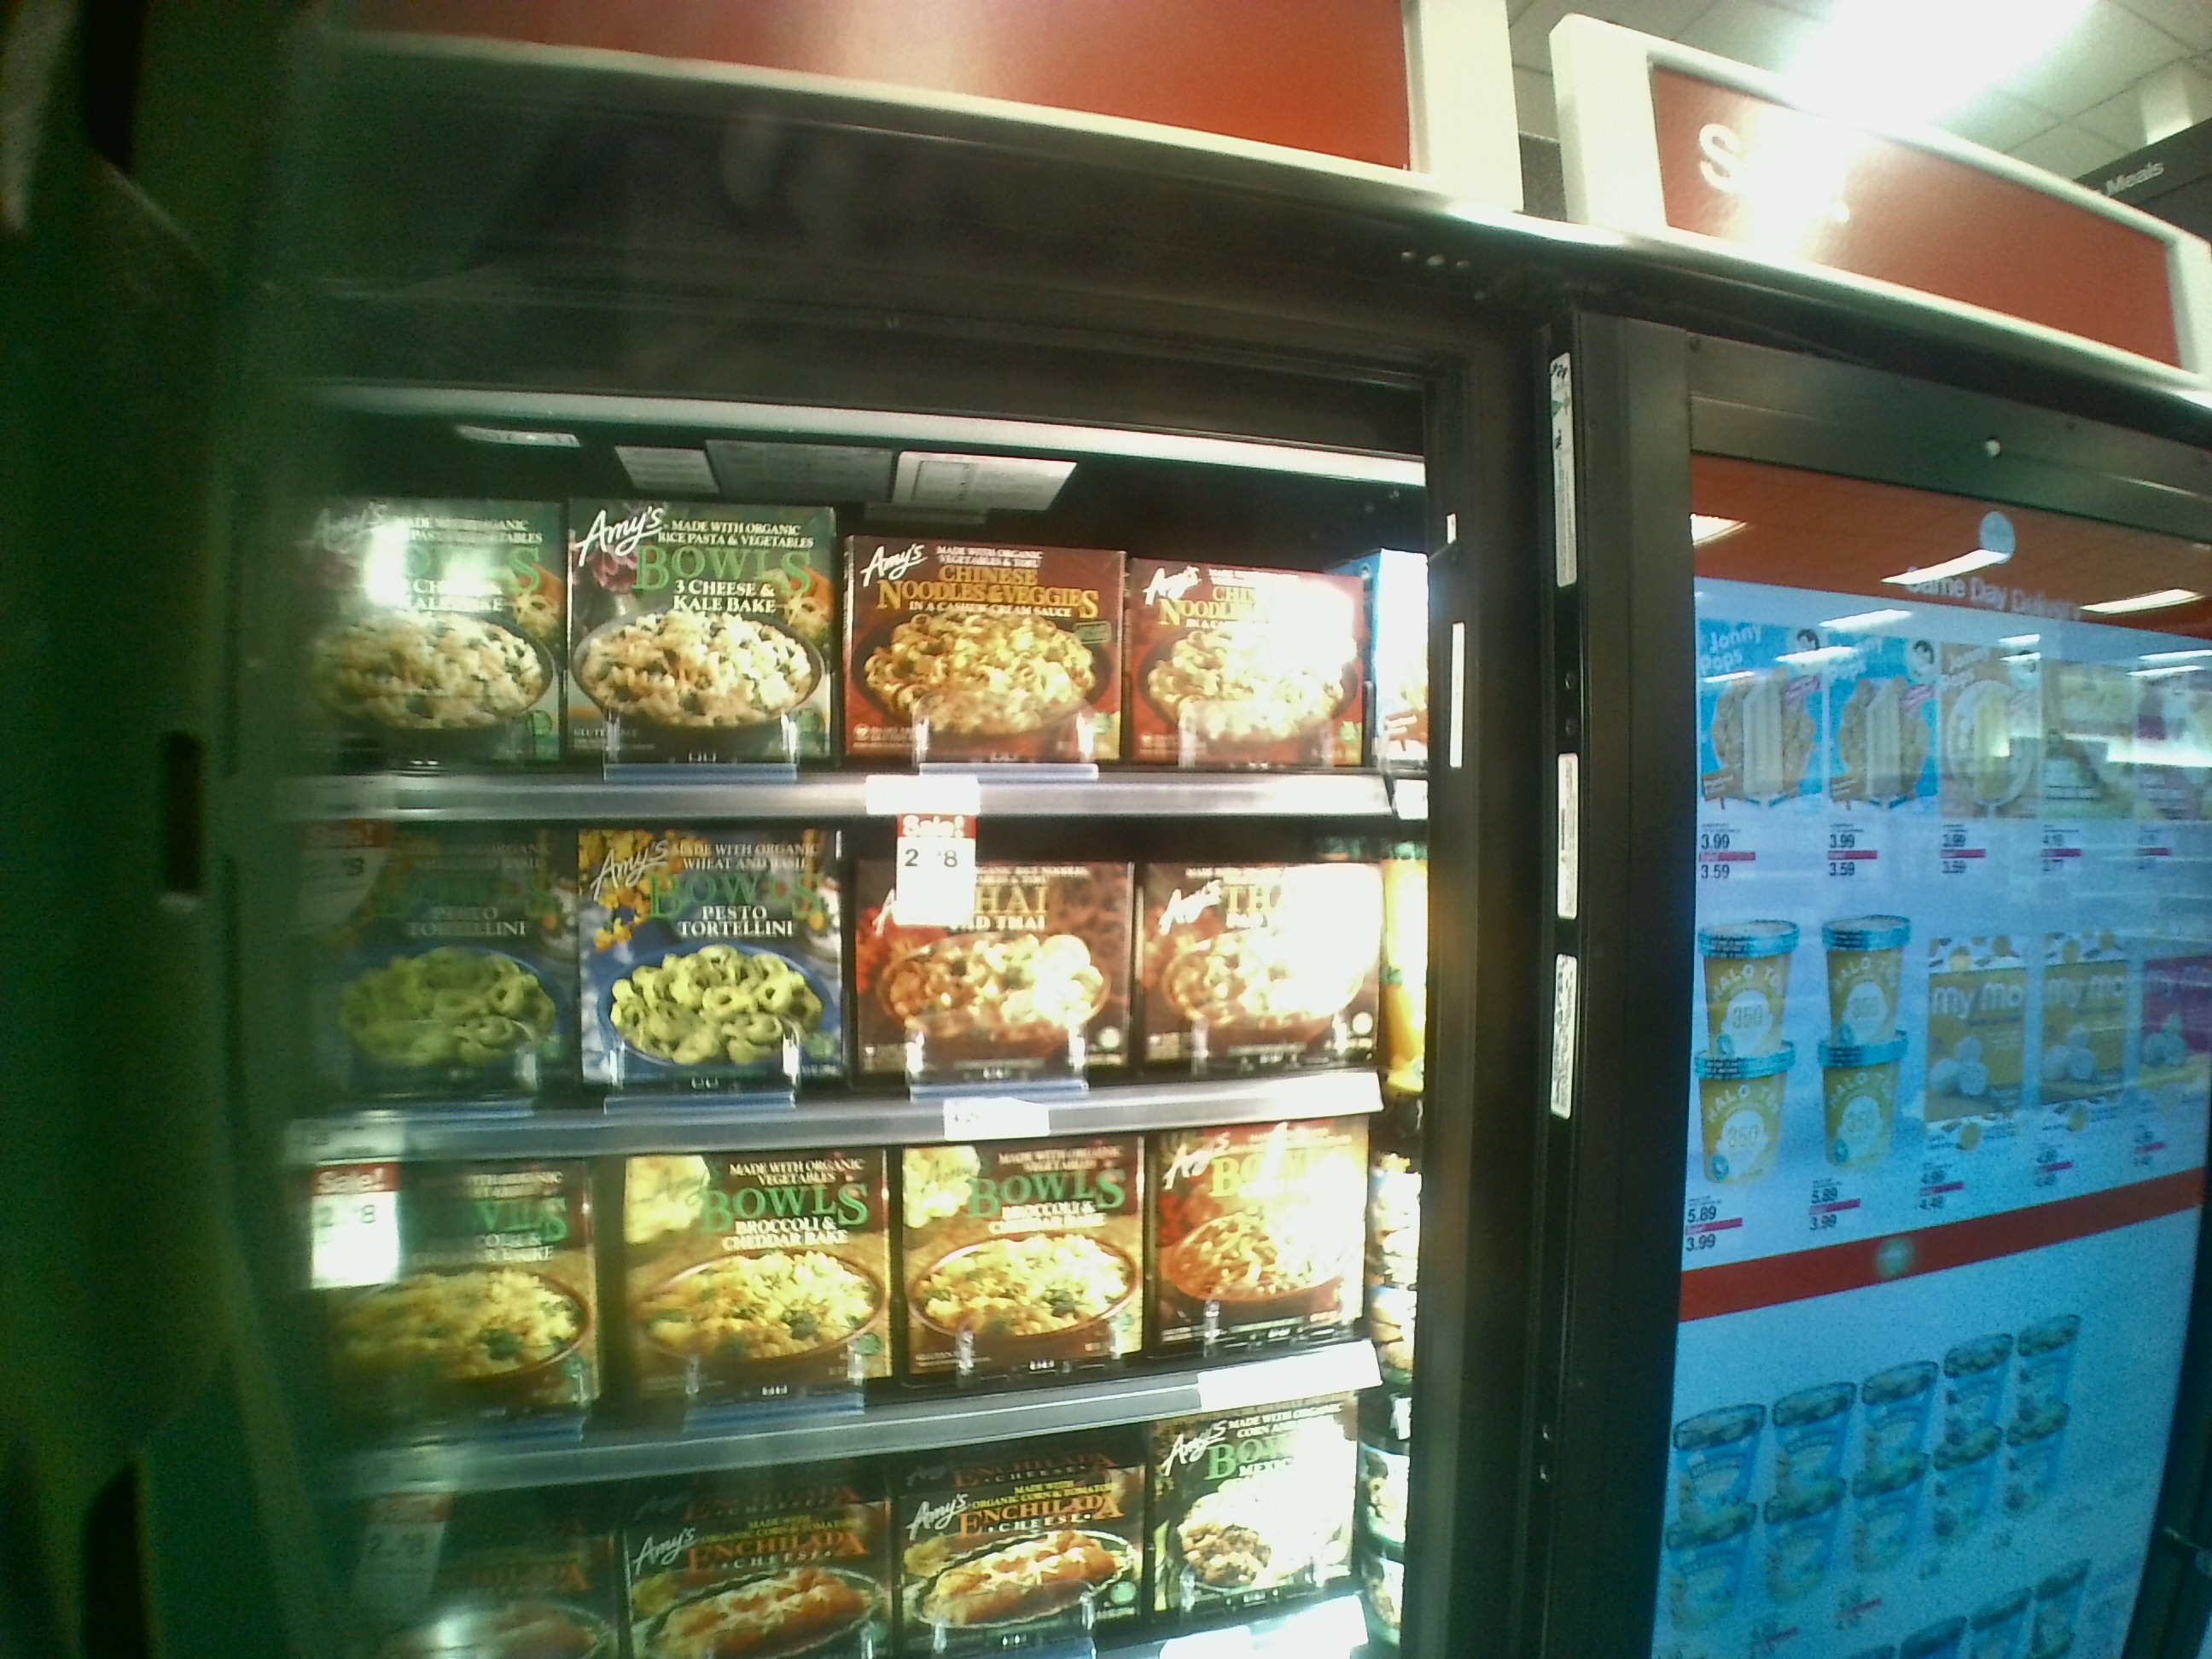shelf: (296, 464, 1404, 829), (300, 816, 1413, 1159), (312, 1155, 1381, 1453)
